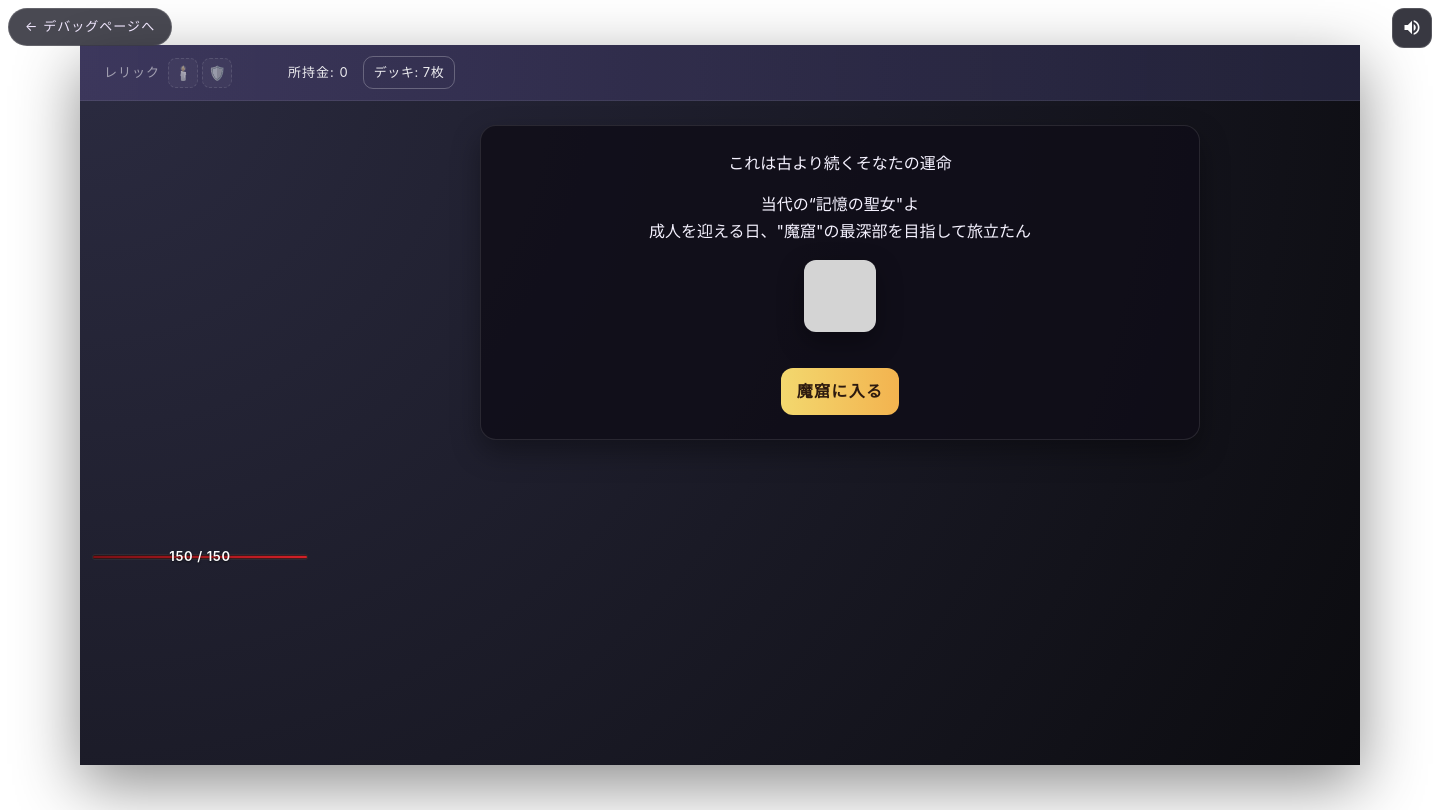
it: /field/start-story › デッキボタンからデッキ一覧オーバーレイが開く
What coordinates should you click on to do the following:
click the button "デッキ: 7枚"
I would click on:
 (409, 73)
Its box is [363,56,455,89].
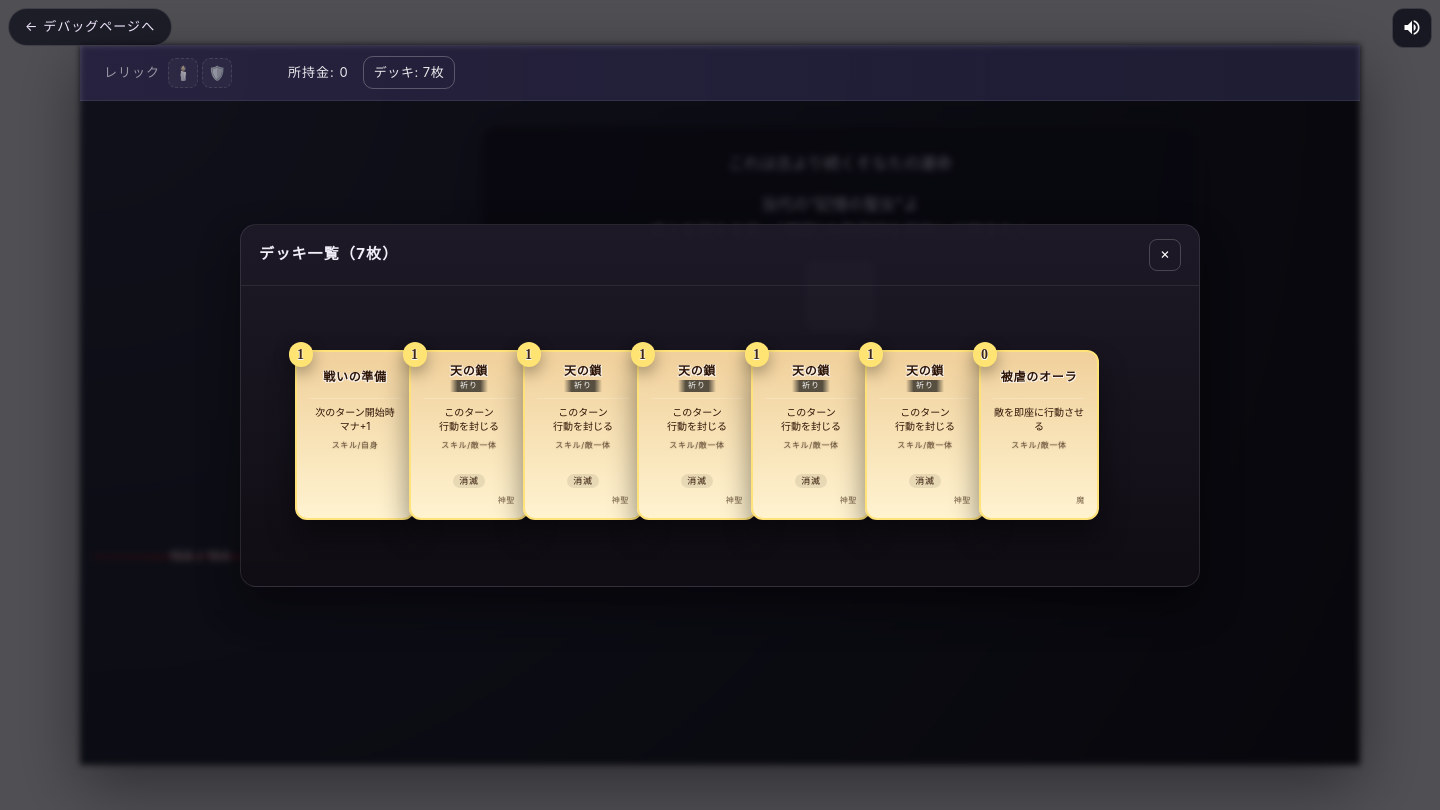
Now the element that starts with "デッキ一覧（7枚）" is shown
Now the text "デッキ一覧（7枚）" is shown, box [259,243,398,266]
